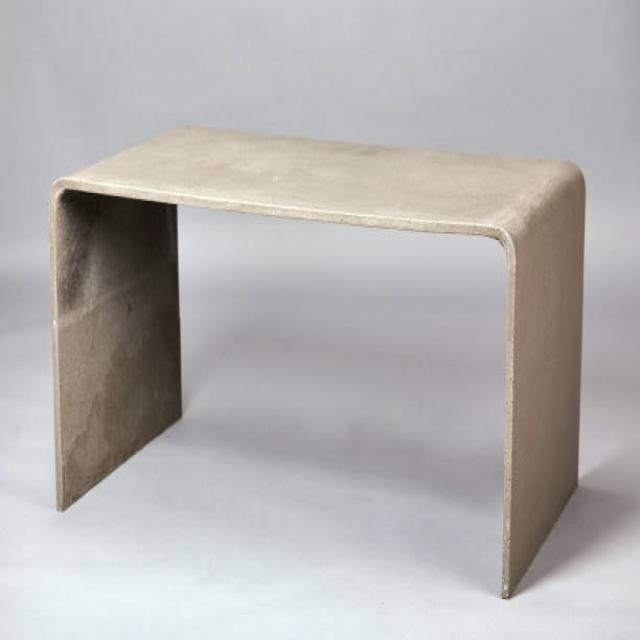table: (48, 122, 586, 598)
